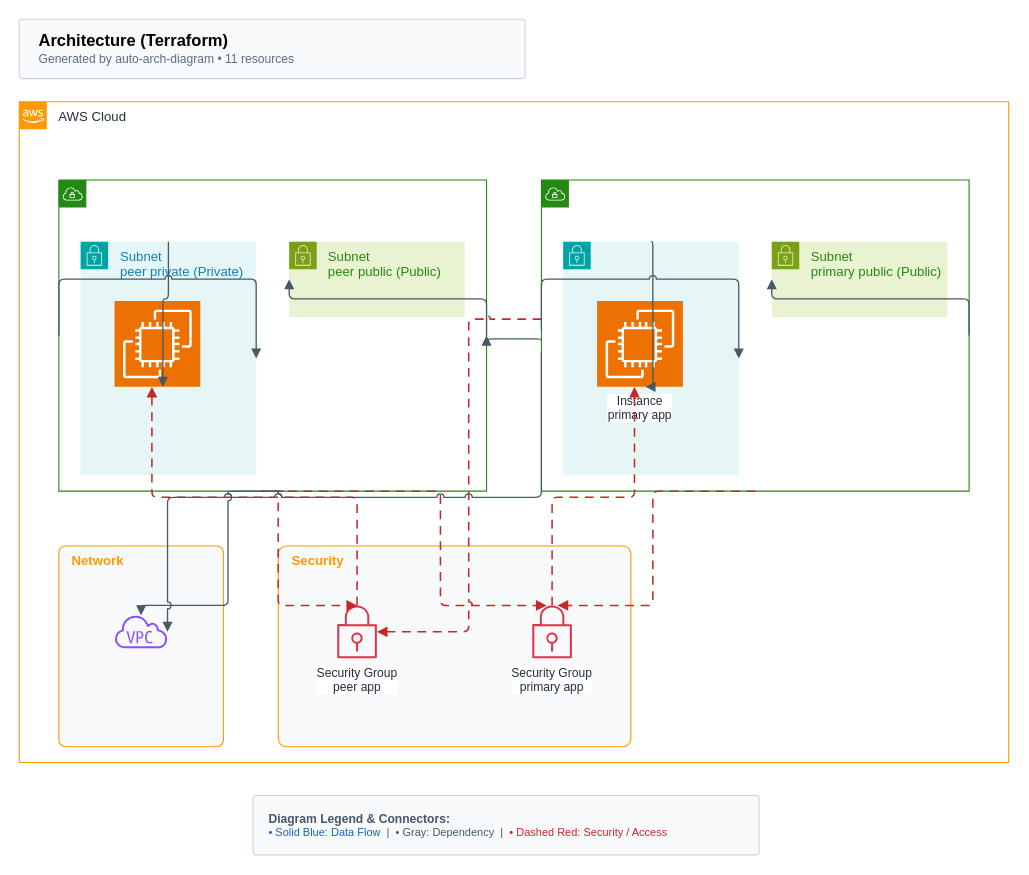
Some shapes in this 1029 by 875 pixel diagram are drawn without their labels. The box of each missing label's shape, as (x1, y1, x2, y2) in pixels:
Instance peer app: (113, 300, 200, 387)
Subnet primary private (Private): (562, 241, 739, 475)
VPC peer: (58, 179, 487, 491)
VPC Peering… primary to peer: (114, 605, 167, 658)
VPC primary: (540, 179, 969, 491)
